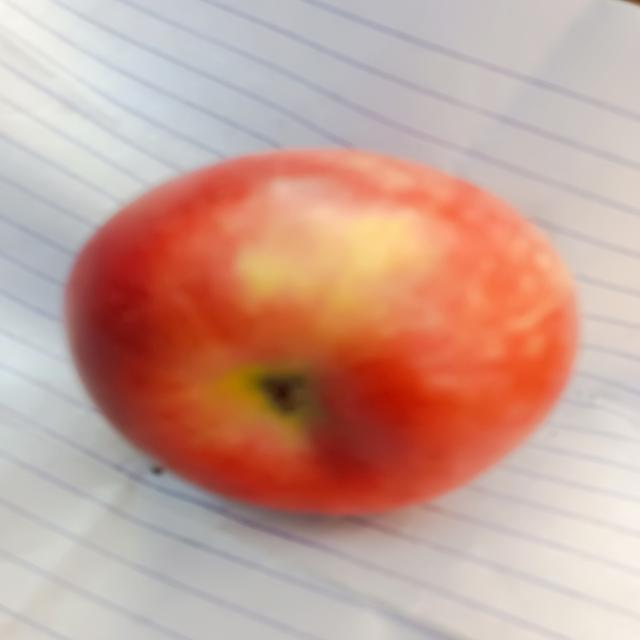Fresh Apple: (64, 152, 574, 528)
